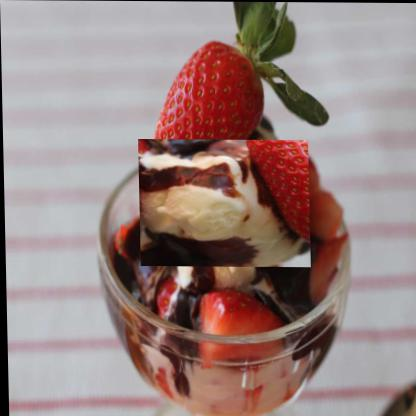icecream: (147, 128, 300, 278)
strawberry: (144, 40, 264, 180)
